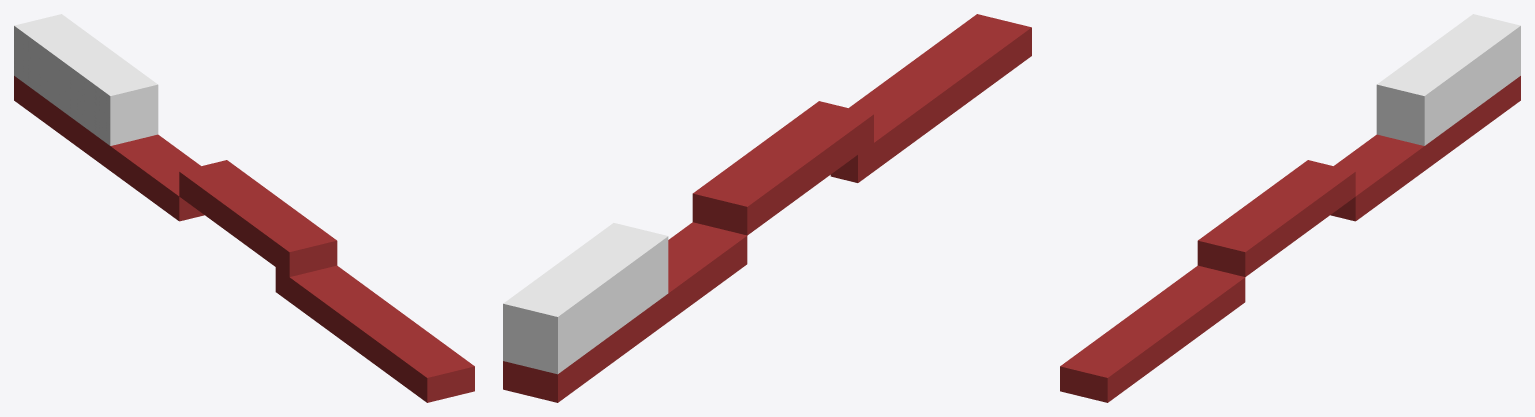
File: spazzolino.gltf
The picture shows the model from 3 angles, left to right: view 1: azimuth 30°, elevation 25°; view 2: azimuth 150°, elevation 25°; view 3: azimuth 330°, elevation 25°; orthographic projection. The views are drawn at different scales.
Parts seen in each view (by area): view 1: Layer.1, Layer.2; view 2: Layer.1, Layer.2; view 3: Layer.1, Layer.2.
Boxes of the visible parts, bbox=[...] form: Layer.1: bbox=[14, 76, 474, 402]; Layer.2: bbox=[14, 14, 158, 145]; Layer.1: bbox=[503, 14, 1031, 402]; Layer.2: bbox=[503, 223, 668, 374]; Layer.1: bbox=[1060, 76, 1520, 402]; Layer.2: bbox=[1376, 14, 1520, 145].
Size of the model in its own units: 2 by 3 by 30.
1 material, 1 textured.
